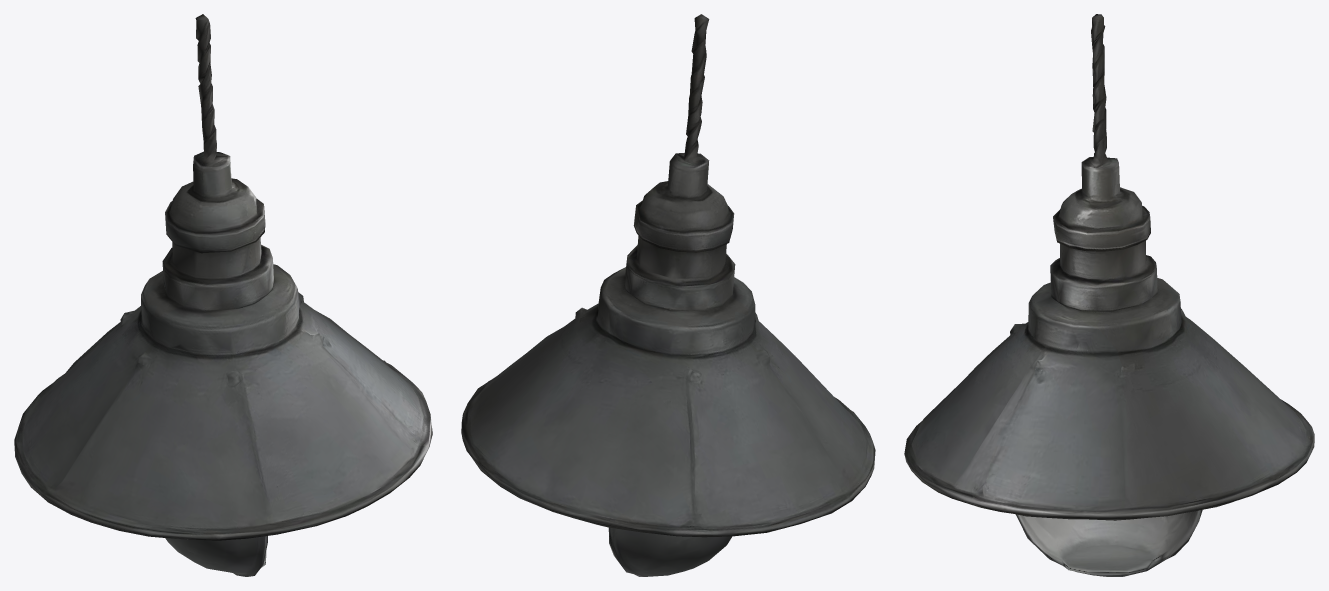
Rendered from post_office_pendant_a.glb.
3 views of the same model, side by side, from view 1: azimuth 30°, elevation 25°; view 2: azimuth 150°, elevation 25°; view 3: azimuth 270°, elevation 25° (orthographic). The views are drawn at different scales.
Parts seen in each view (by area): view 1: tripo_node_df9679a7-3fab-46d7-a6dd-5922472ea595; view 2: tripo_node_df9679a7-3fab-46d7-a6dd-5922472ea595; view 3: tripo_node_df9679a7-3fab-46d7-a6dd-5922472ea595.
Part boxes in pixels (x1,y1,x2,y2): tripo_node_df9679a7-3fab-46d7-a6dd-5922472ea595: (14, 14, 432, 576); tripo_node_df9679a7-3fab-46d7-a6dd-5922472ea595: (461, 14, 875, 576); tripo_node_df9679a7-3fab-46d7-a6dd-5922472ea595: (904, 14, 1314, 576).
Size of the model in its own units: 0.6743 by 1 by 0.6805.
Materials: 1 (1 with a texture image).
